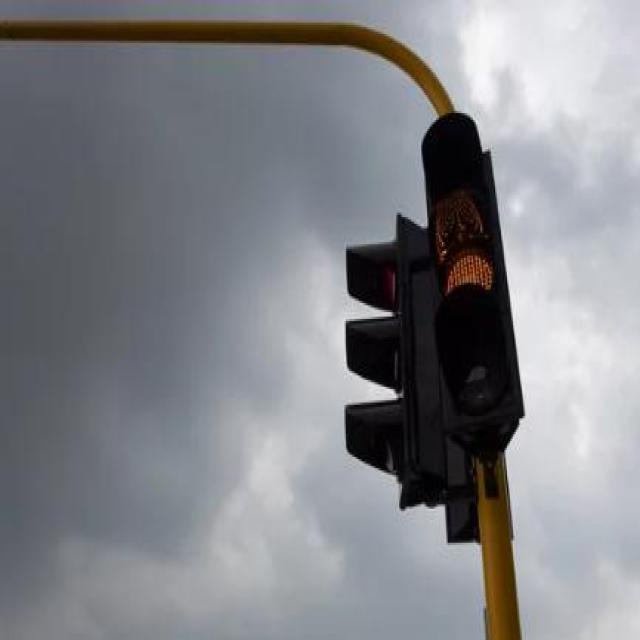yellow_light: (422, 113, 524, 449)
